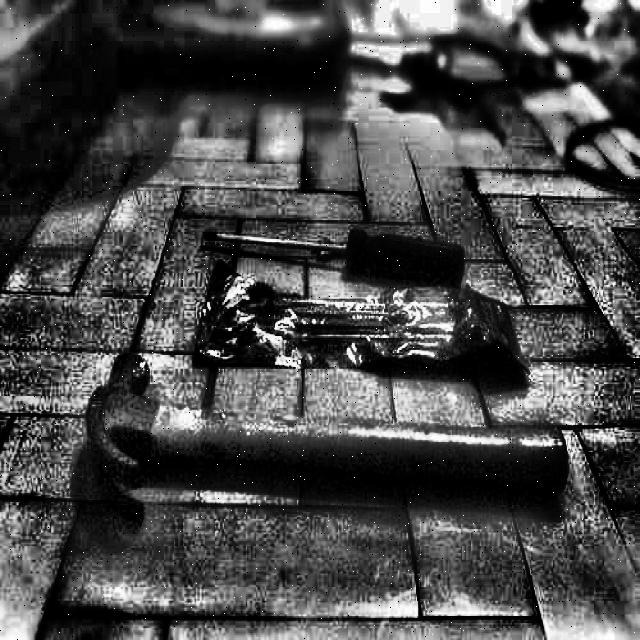hammer: (84, 349, 584, 531)
